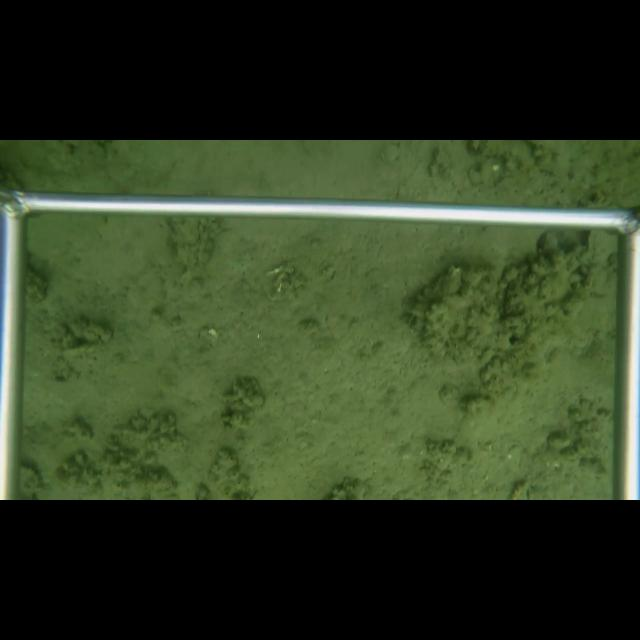Oyster-Closed: (499, 250, 587, 348), (585, 230, 618, 265)
